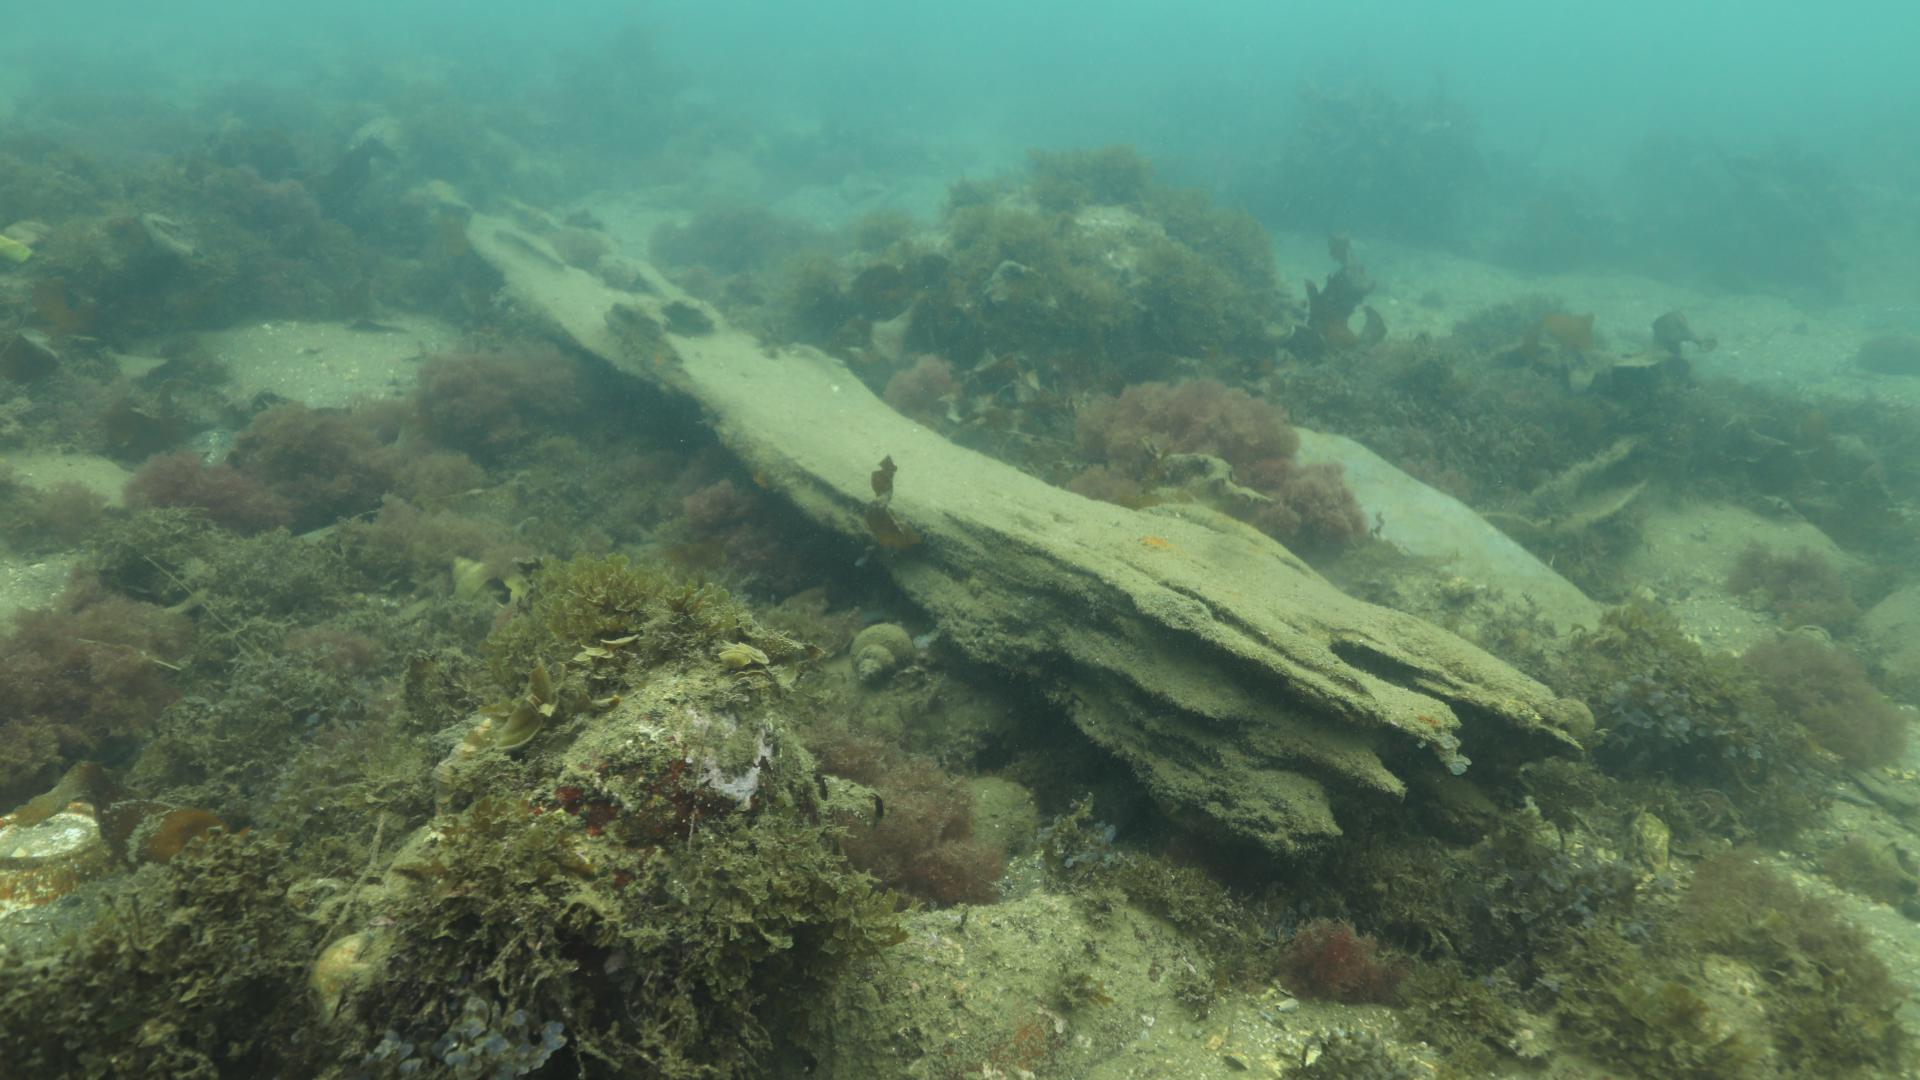wood: (462, 193, 1596, 862)
